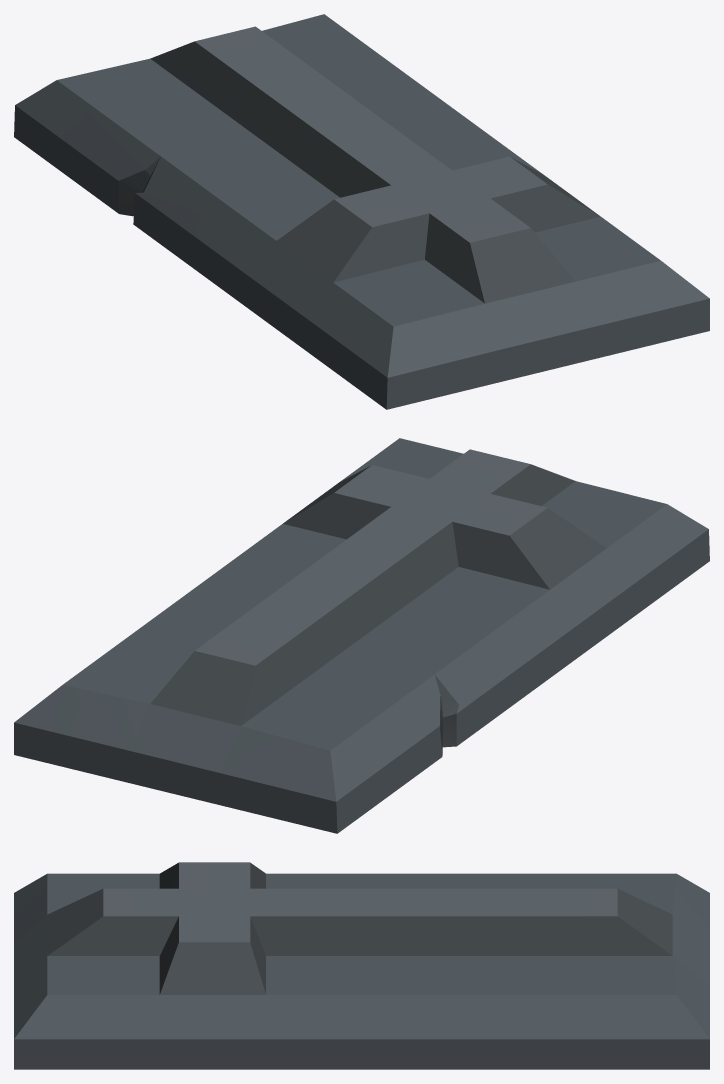
The model's file is GraveV2LidV2.fbx.
3 renders of one model, top to bottom at view 1: azimuth 30°, elevation 25°; view 2: azimuth 150°, elevation 25°; view 3: azimuth 270°, elevation 25°, orthographic. The views are drawn at different scales.
Visible parts, largest first — view 1: GraveLidV2; view 2: GraveLidV2; view 3: GraveLidV2.
Part boxes in pixels (x1,y1,x2,y2): GraveLidV2: [14, 14, 709, 409]; GraveLidV2: [14, 438, 709, 833]; GraveLidV2: [14, 862, 709, 1069].
Bounding box in the file's own units: 4.52 × 1.34 × 9.03.
1 material, 1 textured.
